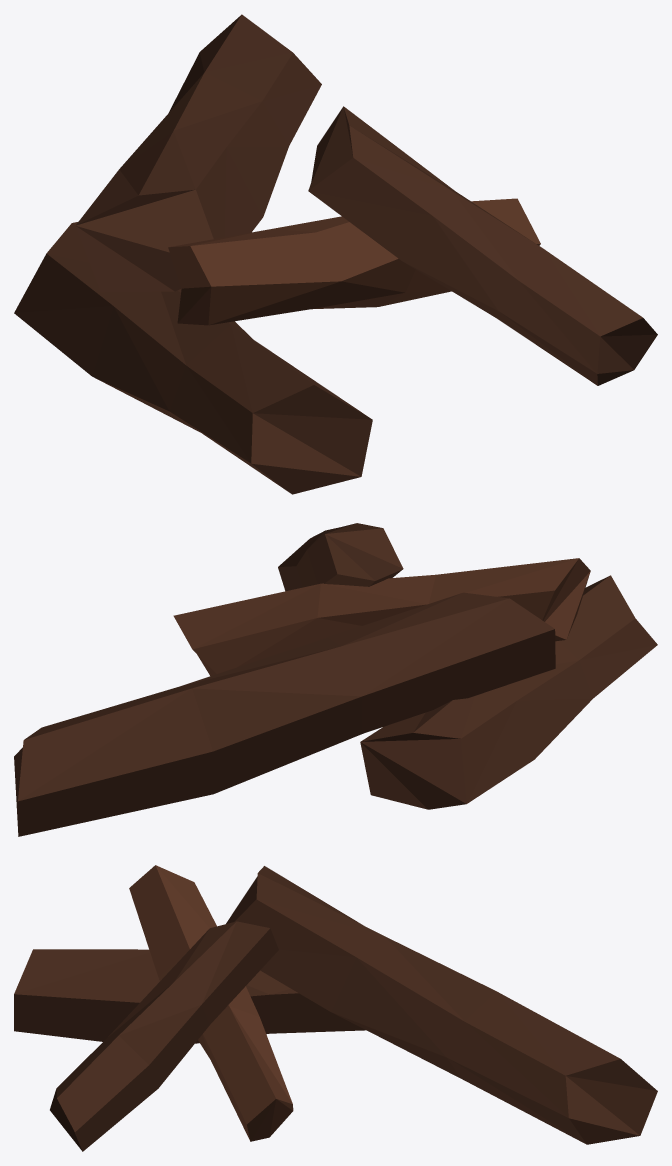
File: Campfire_mat.fbx
3 views of the same model, one above another, from view 1: azimuth 30°, elevation 25°; view 2: azimuth 150°, elevation 25°; view 3: azimuth 270°, elevation 25° (orthographic). The views are drawn at different scales.
Parts seen in each view (by area): view 1: Campfire_mat; view 2: Campfire_mat; view 3: Campfire_mat.
Part boxes in pixels (bbox=[...]): Campfire_mat: bbox=[14, 14, 657, 494]; Campfire_mat: bbox=[14, 523, 657, 836]; Campfire_mat: bbox=[14, 865, 657, 1151].
Bounding box in the file's own units: 20.03 × 9.83 × 32.24.
